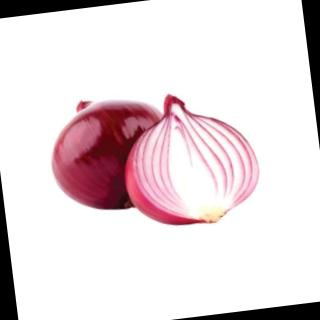Bawang Merah: (41, 75, 270, 247)
